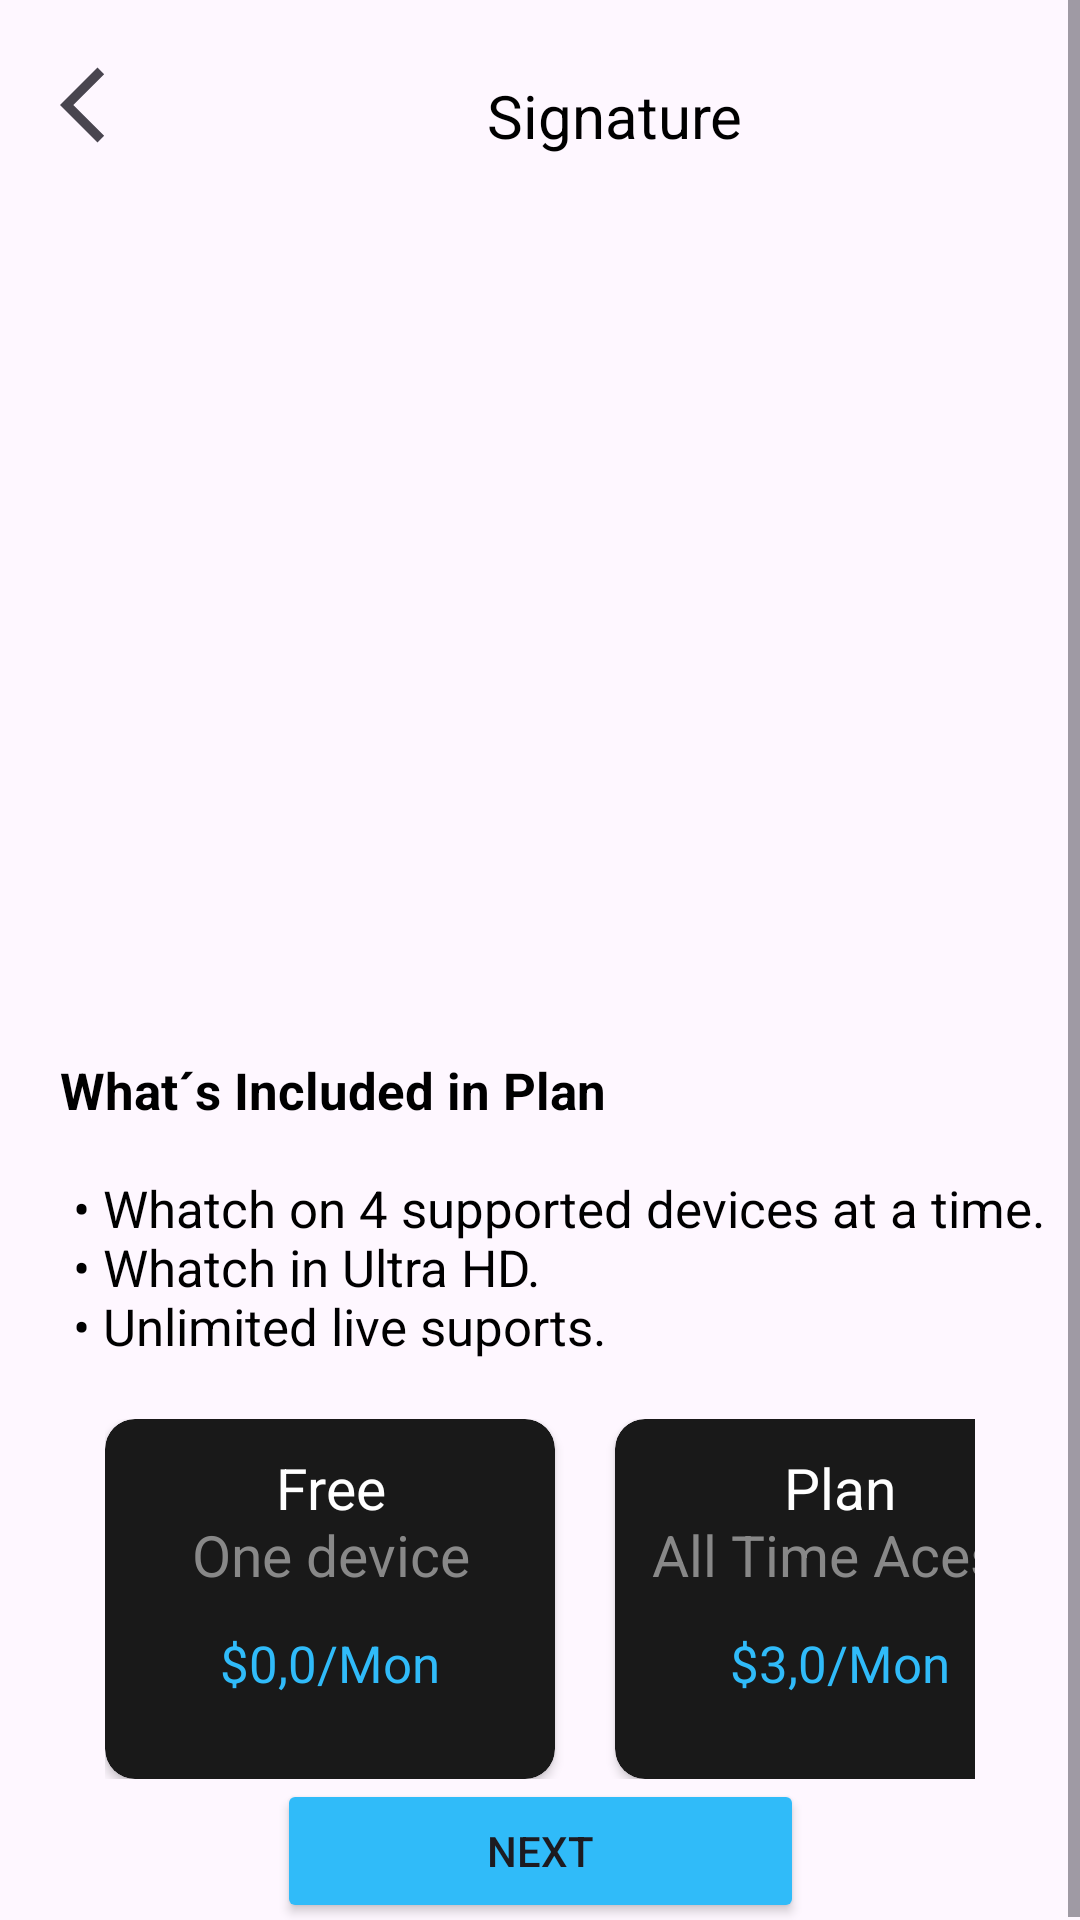

Where icons sit on this 1080 x 1920 app screen, as (x1, y1, x2, y2):
back activity: (60, 67, 104, 143)
